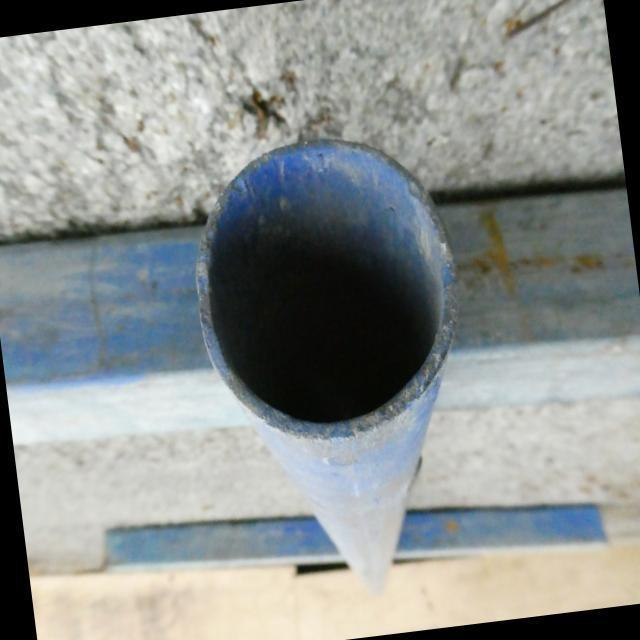pipe: (194, 135, 453, 434)
